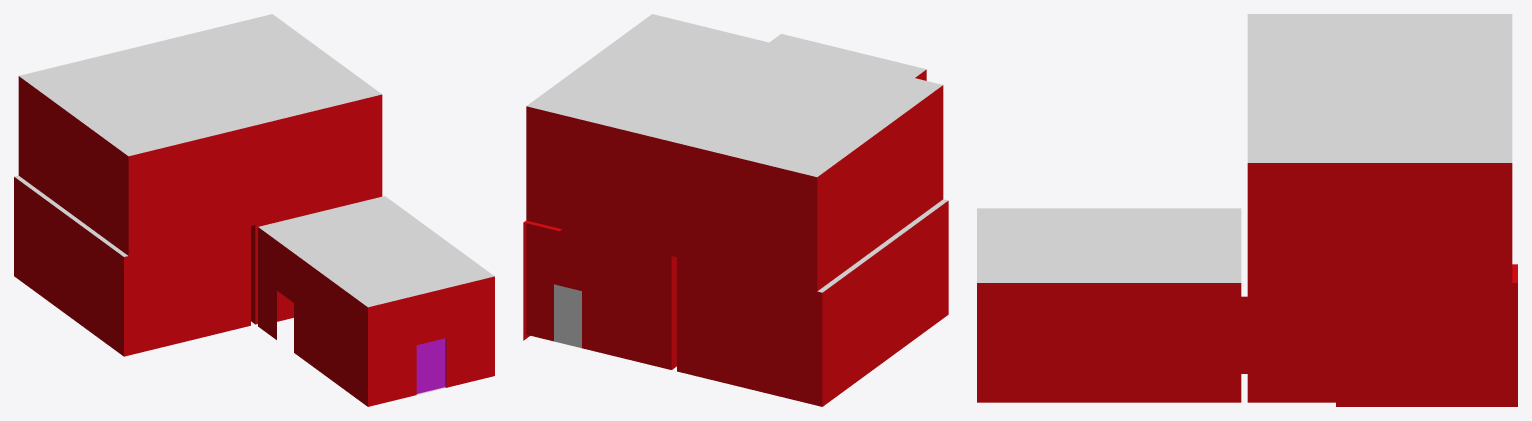
Rendered from HalloweenHouse.fbx.
3 renders of one model, left to right at view 1: azimuth 30°, elevation 25°; view 2: azimuth 150°, elevation 25°; view 3: azimuth 270°, elevation 25°, orthographic. The views are drawn at different scales.
Parts seen in each view (by area): view 1: Cube.017; view 2: Cube.017, Plane.002; view 3: Cube.017, Plane.002.
Boxes of the visible parts, box(x1,y1,x2,y2) form: Cube.017: box(14, 14, 494, 406); Cube.017: box(526, 14, 948, 406); Plane.002: box(523, 220, 561, 340); Cube.017: box(977, 14, 1512, 402); Plane.002: box(1336, 264, 1517, 406).
Size of the model in its own units: 8.14 by 6.11 by 12.27.
